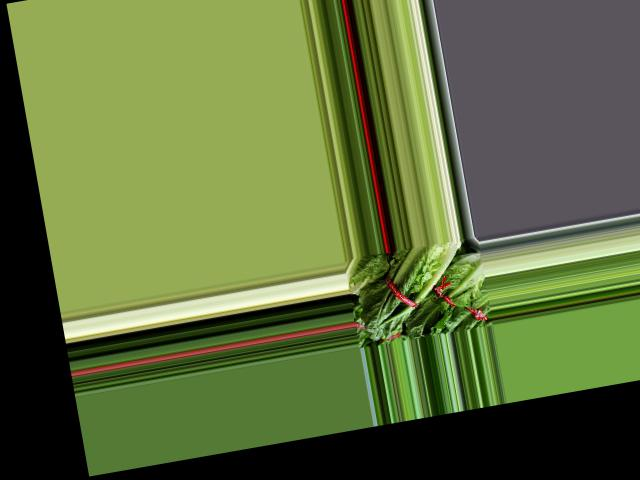lettuce: (349, 238, 473, 343)
